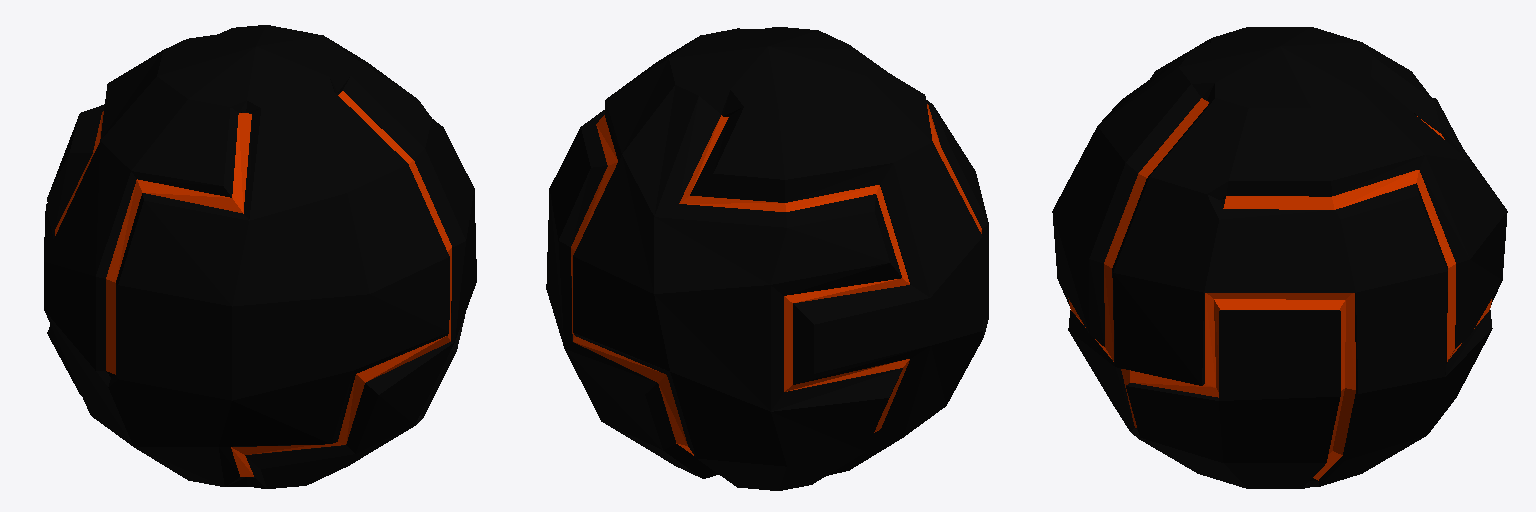
The model's file is hotSphere.obj.
3 renders of one model, left to right at view 1: azimuth 30°, elevation 25°; view 2: azimuth 150°, elevation 25°; view 3: azimuth 270°, elevation 25°, orthographic.
Visible parts, largest first — view 1: Sphere; view 2: Sphere; view 3: Sphere.
Boxes of the visible parts, box(x1,y1,x2,y2) form: Sphere: box(44, 25, 476, 488); Sphere: box(546, 27, 988, 490); Sphere: box(1052, 27, 1507, 488).
Bounding box in the file's own units: 1.85 × 1.98 × 1.95.